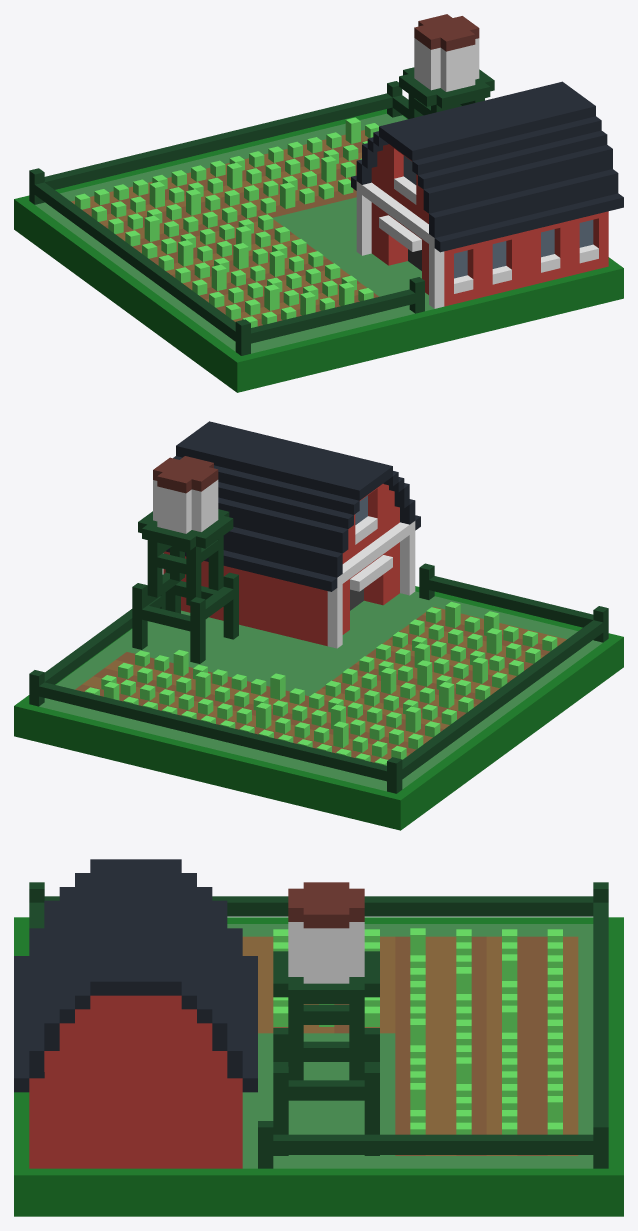
Rendered from Farm.fbx.
3 renders of one model, top to bottom at view 1: azimuth 30°, elevation 25°; view 2: azimuth 150°, elevation 25°; view 3: azimuth 270°, elevation 25°, orthographic. The views are drawn at different scales.
Parts seen in each view (by area): view 1: Farm; view 2: Farm; view 3: Farm.
Part boxes in pixels (x1,y1,x2,y2): Farm: [14, 14, 623, 392]; Farm: [14, 421, 623, 830]; Farm: [14, 859, 623, 1216].
Bounding box in the file's own units: 4000 × 2000 × 4000.
